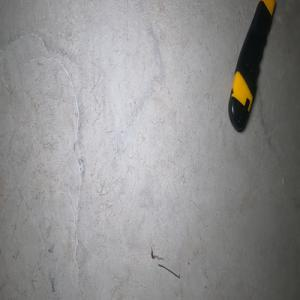Cutter: (227, 0, 274, 133)
